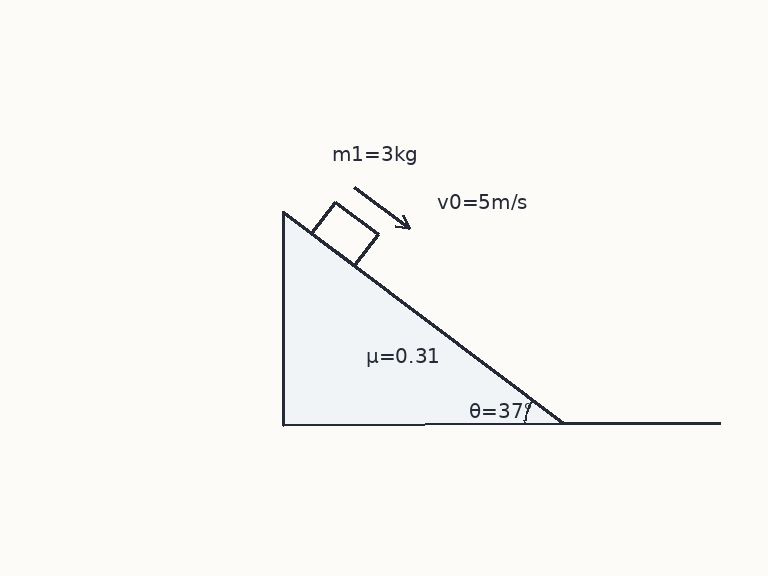block: (309, 200, 380, 267)
ramp: (281, 210, 567, 426)
